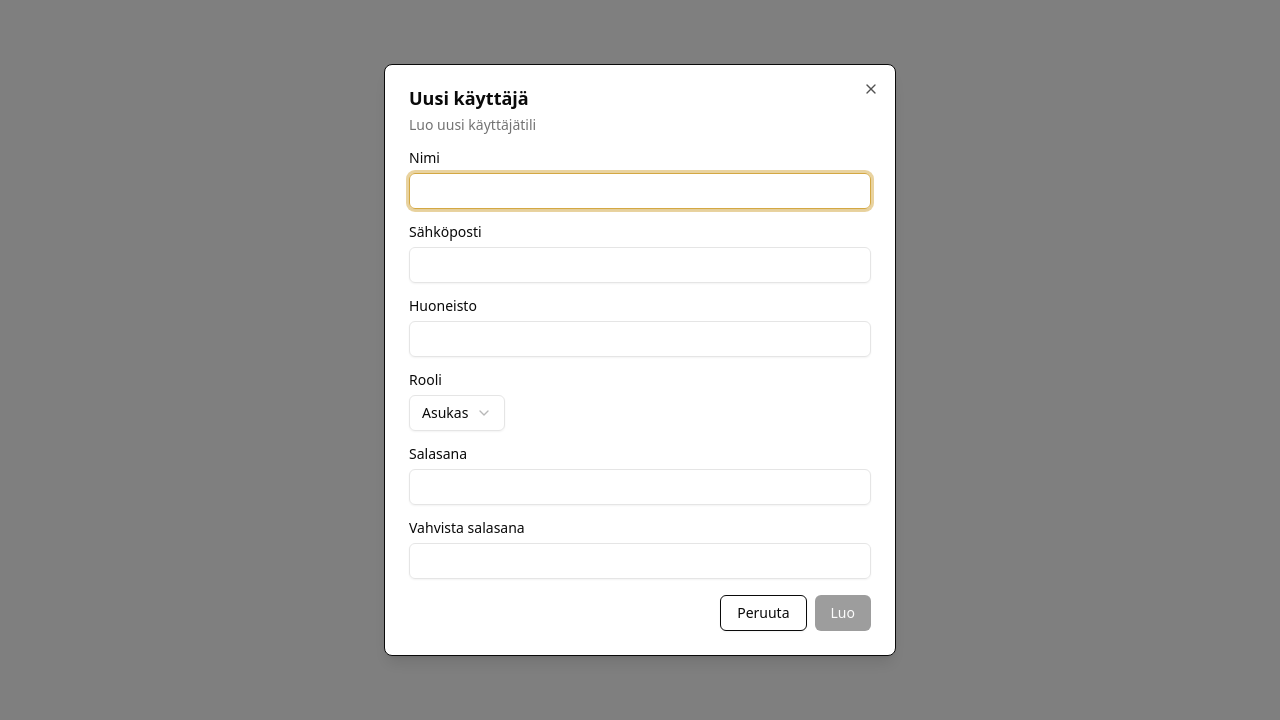
UserFormDialog - create mode › shows password mismatch error
Step 1. Click the password field labelled "Salasana" → (640, 487), box [409,469,871,505]
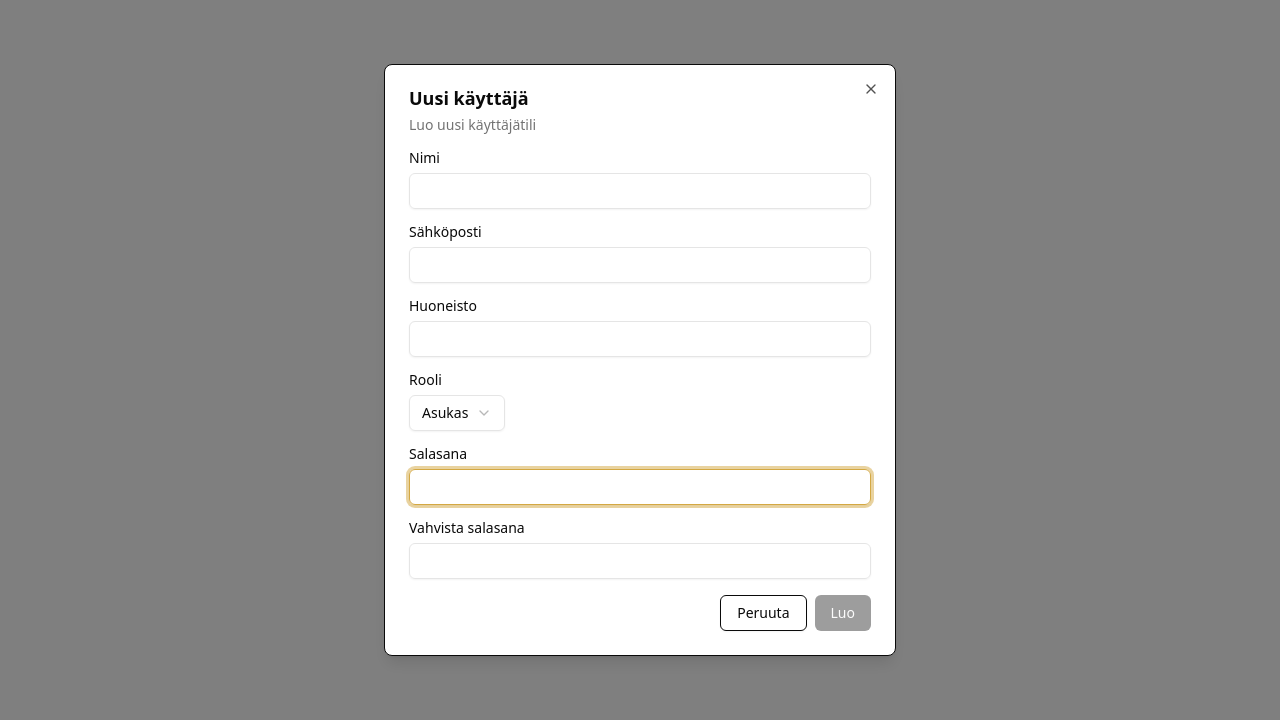
Step 2. Type keys "ValidPass123!"
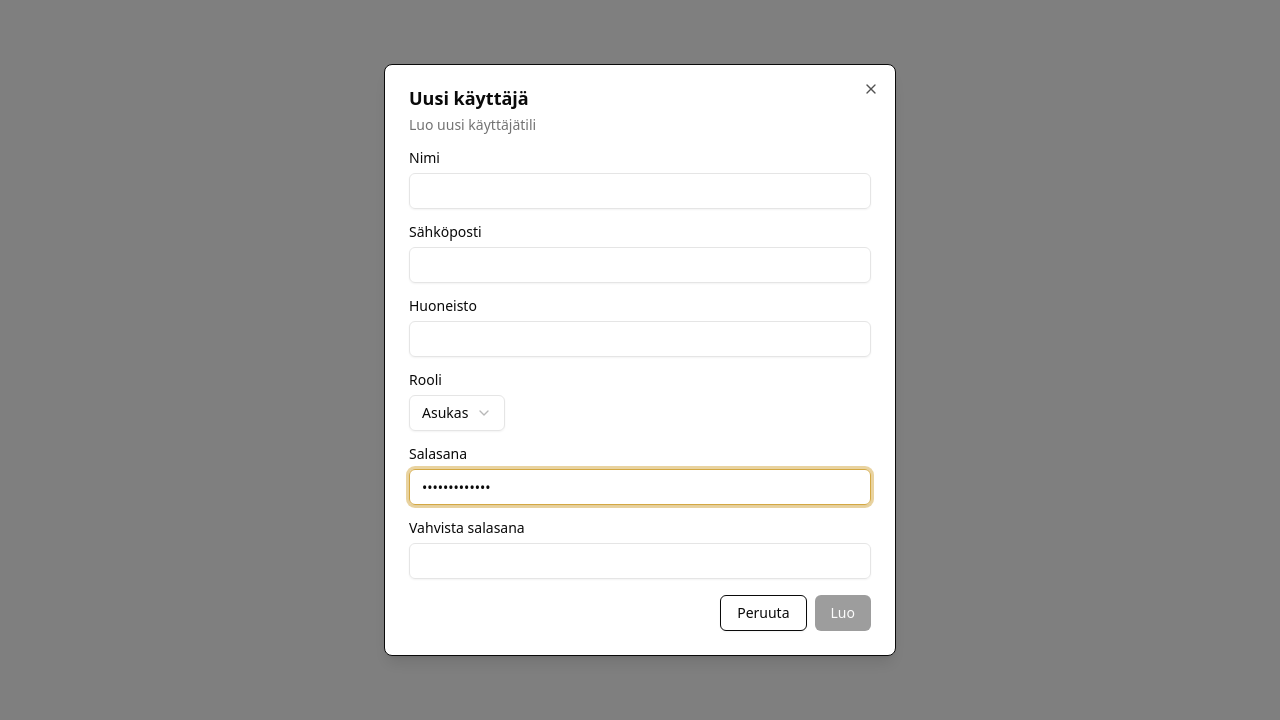
Step 3. Click the password field labelled "Vahvista salasana" → (640, 561), box [409,543,871,579]
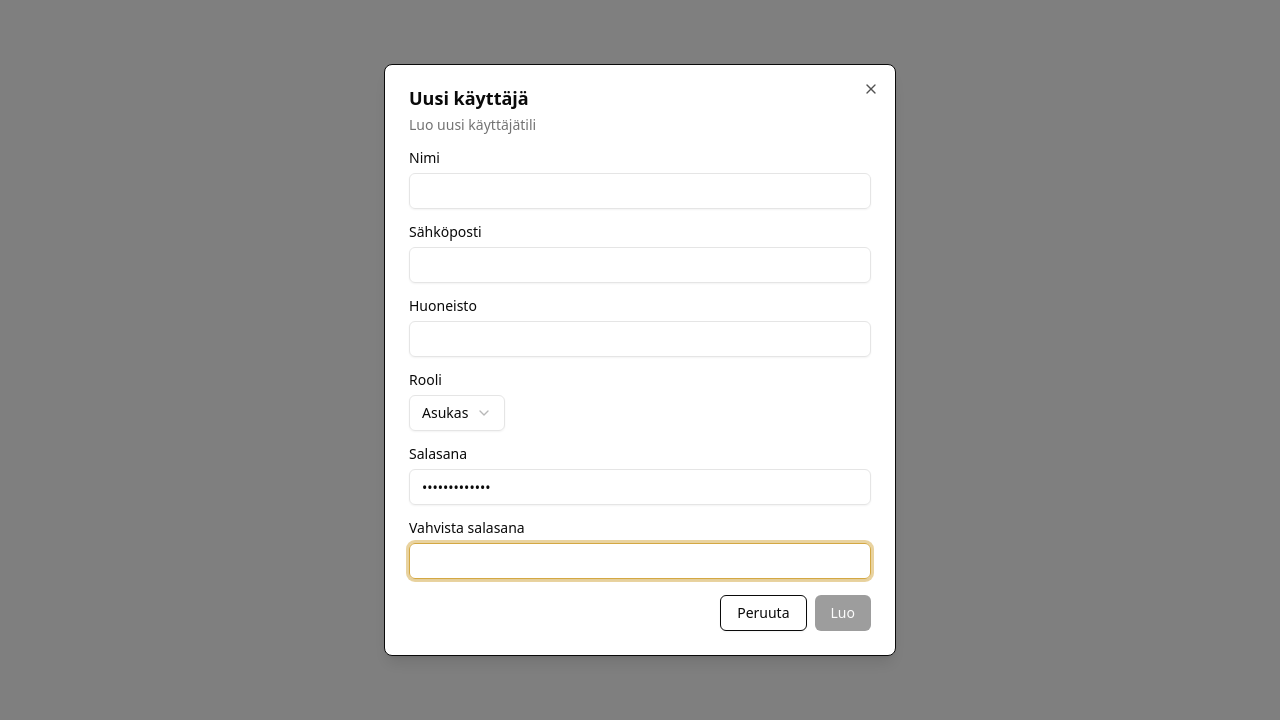
Step 4. Type keys "Different!"
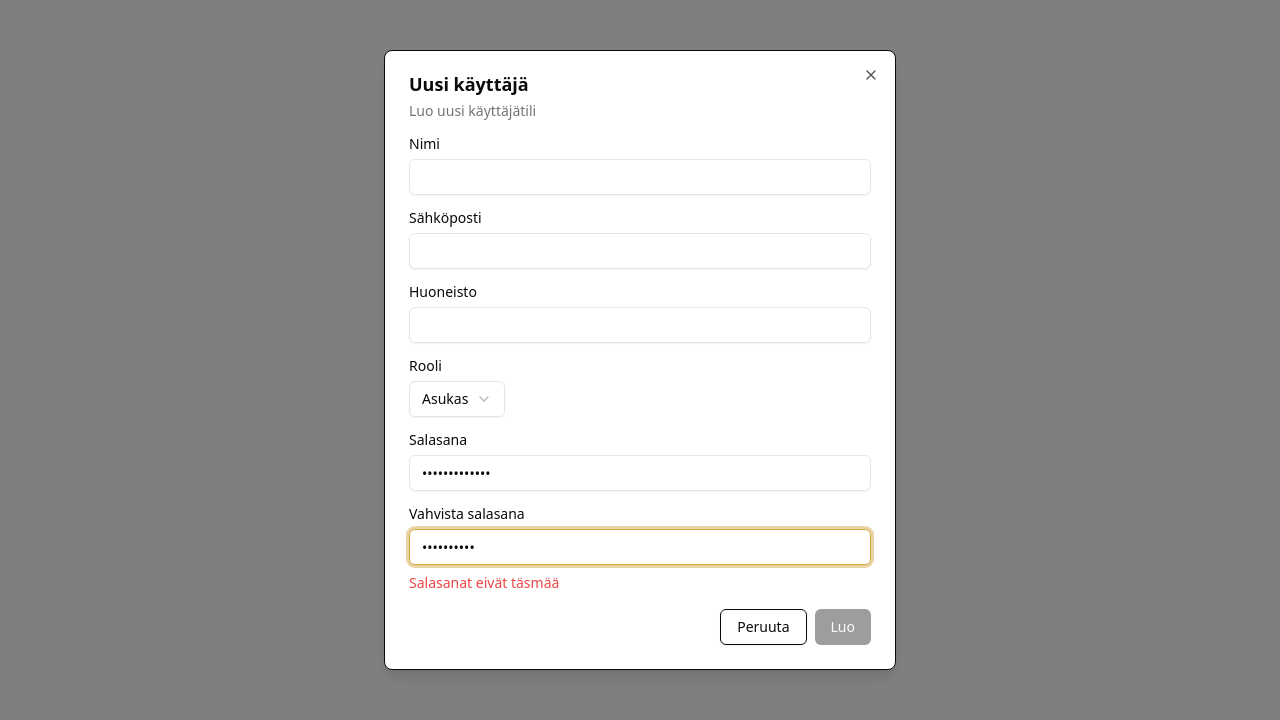
Check: the text "Salasanat eivät täsmää" is shown, box [409,573,559,592]
